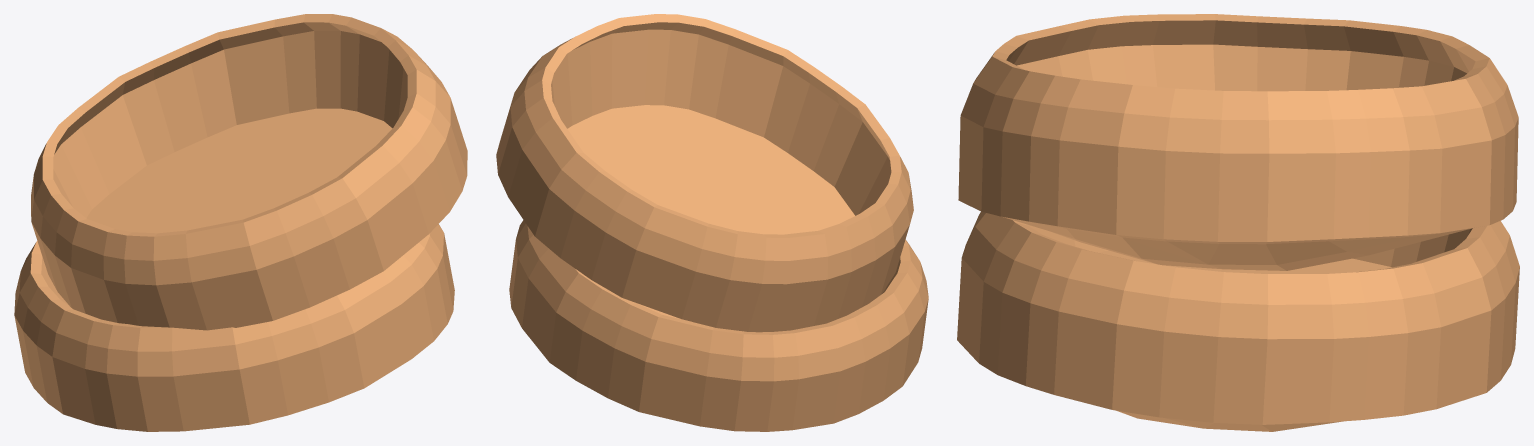
File: Bowl.fbx
3 views of the same model, side by side, from view 1: azimuth 30°, elevation 25°; view 2: azimuth 150°, elevation 25°; view 3: azimuth 270°, elevation 25° (orthographic). The views are drawn at different scales.
Visible parts, largest first — view 1: Bowl.002; view 2: Bowl.002; view 3: Bowl.002.
Part boxes in pixels (box(x1,y1,x2,y2)): Bowl.002: box(14, 14, 467, 431); Bowl.002: box(496, 14, 928, 431); Bowl.002: box(957, 14, 1519, 431).
Bounding box in the file's own units: 0.2226 × 0.1651 × 0.2011.
